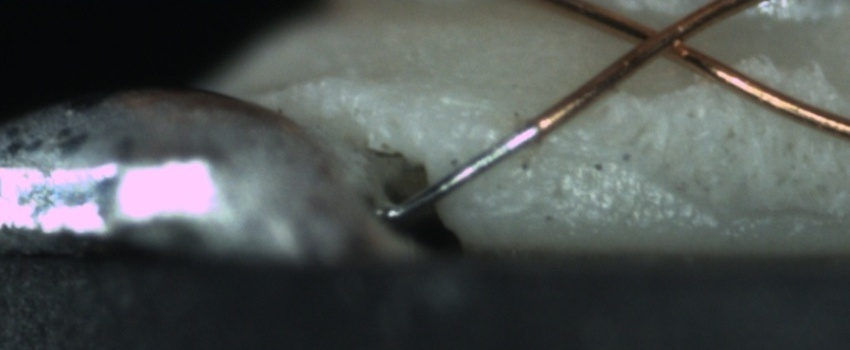CL: (618, 10, 711, 66)
TS: (383, 121, 542, 220)
